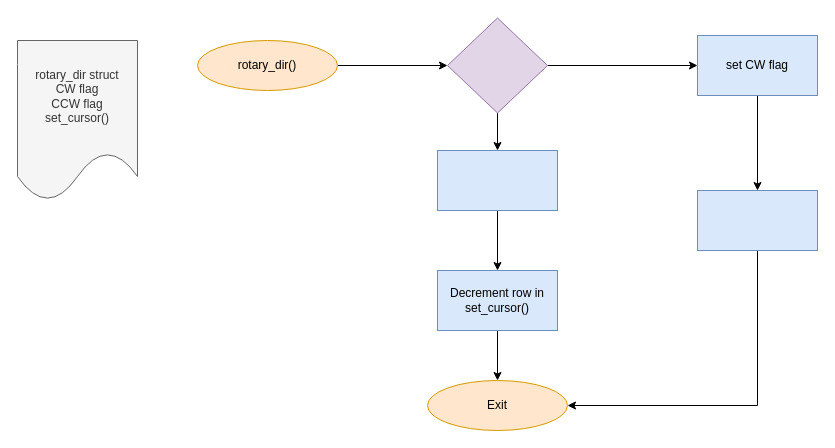
This 835x448 diagram has some shape labels left out. The centre of each missing label's shape, as x and y in pixels:
"CW or CCW?" belongs at (497,65).
"Increment row in set_cursor()" belongs at (757,220).
"Set CCW flag" belongs at (497,180).
